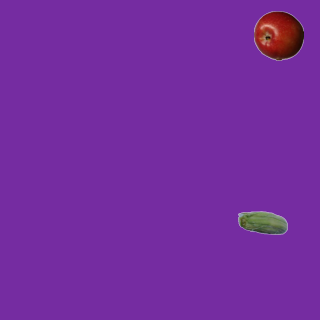Apple Braeburn: (253, 10, 303, 60)
Corn Husk: (237, 199, 287, 249)
